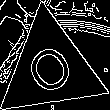O_SE: (20, 35, 81, 101)
